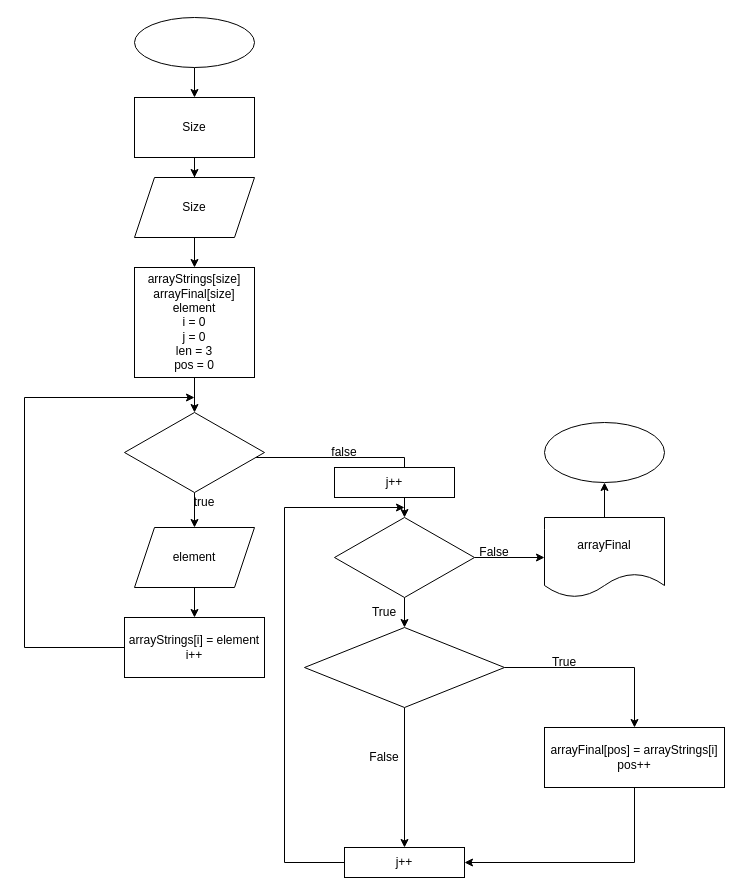
This 742x895 diagram has some shape labels left out. The shapes that lost their labels are listed below. From the top down, each one's box as (x1, y1, x2, y2) in pixels, then its label:
(134, 16, 254, 68): Start
(124, 412, 264, 492): i < size
(544, 422, 664, 482): End
(334, 516, 474, 598): j < size
(304, 626, 504, 708): arrayStrings[i].Length <= len
